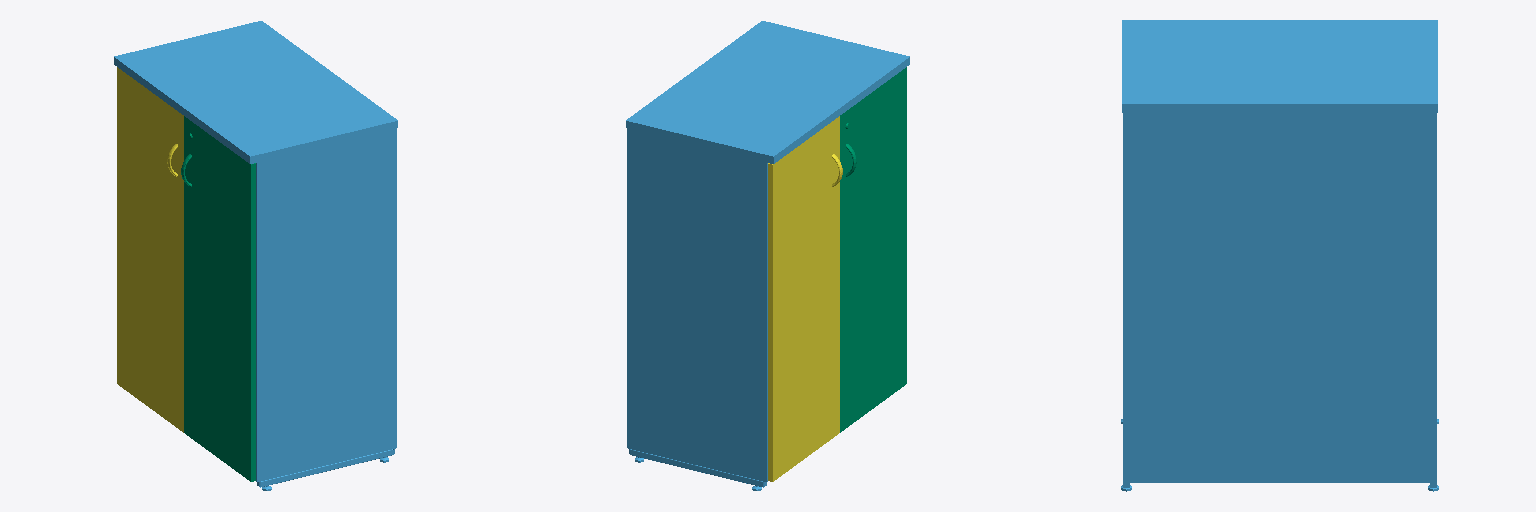
The robot description file, URDF, robot "00620":
<robot name="00620">
  <link name="base_link"/>
  <link name="link_0">
    <visual>
      <origin xyz="-0.0 -0.0 -0.0" rpy="0 0 0"/>
      <geometry>
        <mesh filename="textured_objs/part_001.obj"/>
      </geometry>
    </visual>
    <collision>
      <origin xyz="-0.0 -0.0 -0.0" rpy="0 0 0"/>
      <geometry>
        <mesh filename="textured_objs/part_001.obj"/>
      </geometry>
    </collision>
    <visual>
      <origin xyz="-0.0 -0.0 -0.0" rpy="0 0 0"/>
      <geometry>
        <mesh filename="textured_objs/part_002.obj"/>
      </geometry>
    </visual>
    <collision>
      <origin xyz="-0.0 -0.0 -0.0" rpy="0 0 0"/>
      <geometry>
        <mesh filename="textured_objs/part_002.obj"/>
      </geometry>
    </collision>
    <visual>
      <origin xyz="-0.0 -0.0 -0.0" rpy="0 0 0"/>
      <geometry>
        <mesh filename="textured_objs/part_003.obj"/>
      </geometry>
    </visual>
    <collision>
      <origin xyz="-0.0 -0.0 -0.0" rpy="0 0 0"/>
      <geometry>
        <mesh filename="textured_objs/part_003.obj"/>
      </geometry>
    </collision>
    <visual>
      <origin xyz="-0.0 -0.0 -0.0" rpy="0 0 0"/>
      <geometry>
        <mesh filename="textured_objs/part_004.obj"/>
      </geometry>
    </visual>
    <collision>
      <origin xyz="-0.0 -0.0 -0.0" rpy="0 0 0"/>
      <geometry>
        <mesh filename="textured_objs/part_004.obj"/>
      </geometry>
    </collision>
    <visual>
      <origin xyz="-0.0 -0.0 -0.0" rpy="0 0 0"/>
      <geometry>
        <mesh filename="textured_objs/part_005.obj"/>
      </geometry>
    </visual>
    <collision>
      <origin xyz="-0.0 -0.0 -0.0" rpy="0 0 0"/>
      <geometry>
        <mesh filename="textured_objs/part_005.obj"/>
      </geometry>
    </collision>
    <visual>
      <origin xyz="-0.0 -0.0 -0.0" rpy="0 0 0"/>
      <geometry>
        <mesh filename="textured_objs/part_006.obj"/>
      </geometry>
    </visual>
    <collision>
      <origin xyz="-0.0 -0.0 -0.0" rpy="0 0 0"/>
      <geometry>
        <mesh filename="textured_objs/part_006.obj"/>
      </geometry>
    </collision>
    <visual>
      <origin xyz="-0.0 -0.0 -0.0" rpy="0 0 0"/>
      <geometry>
        <mesh filename="textured_objs/part_007.obj"/>
      </geometry>
    </visual>
    <collision>
      <origin xyz="-0.0 -0.0 -0.0" rpy="0 0 0"/>
      <geometry>
        <mesh filename="textured_objs/part_007.obj"/>
      </geometry>
    </collision>
    <visual>
      <origin xyz="-0.0 -0.0 -0.0" rpy="0 0 0"/>
      <geometry>
        <mesh filename="textured_objs/part_008.obj"/>
      </geometry>
    </visual>
    <collision>
      <origin xyz="-0.0 -0.0 -0.0" rpy="0 0 0"/>
      <geometry>
        <mesh filename="textured_objs/part_008.obj"/>
      </geometry>
    </collision>
    <visual>
      <origin xyz="-0.0 -0.0 -0.0" rpy="0 0 0"/>
      <geometry>
        <mesh filename="textured_objs/part_009.obj"/>
      </geometry>
    </visual>
    <collision>
      <origin xyz="-0.0 -0.0 -0.0" rpy="0 0 0"/>
      <geometry>
        <mesh filename="textured_objs/part_009.obj"/>
      </geometry>
    </collision>
    <visual>
      <origin xyz="-0.0 -0.0 -0.0" rpy="0 0 0"/>
      <geometry>
        <mesh filename="textured_objs/part_010.obj"/>
      </geometry>
    </visual>
    <collision>
      <origin xyz="-0.0 -0.0 -0.0" rpy="0 0 0"/>
      <geometry>
        <mesh filename="textured_objs/part_010.obj"/>
      </geometry>
    </collision>
    <visual>
      <origin xyz="-0.0 -0.0 -0.0" rpy="0 0 0"/>
      <geometry>
        <mesh filename="textured_objs/part_011.obj"/>
      </geometry>
    </visual>
    <collision>
      <origin xyz="-0.0 -0.0 -0.0" rpy="0 0 0"/>
      <geometry>
        <mesh filename="textured_objs/part_011.obj"/>
      </geometry>
    </collision>
    <visual>
      <origin xyz="-0.0 -0.0 -0.0" rpy="0 0 0"/>
      <geometry>
        <mesh filename="textured_objs/part_012.obj"/>
      </geometry>
    </visual>
    <collision>
      <origin xyz="-0.0 -0.0 -0.0" rpy="0 0 0"/>
      <geometry>
        <mesh filename="textured_objs/part_012.obj"/>
      </geometry>
    </collision>
    <visual>
      <origin xyz="-0.0 -0.0 -0.0" rpy="0 0 0"/>
      <geometry>
        <mesh filename="textured_objs/part_013.obj"/>
      </geometry>
    </visual>
    <collision>
      <origin xyz="-0.0 -0.0 -0.0" rpy="0 0 0"/>
      <geometry>
        <mesh filename="textured_objs/part_013.obj"/>
      </geometry>
    </collision>
    <visual>
      <origin xyz="-0.0 -0.0 -0.0" rpy="0 0 0"/>
      <geometry>
        <mesh filename="textured_objs/part_014.obj"/>
      </geometry>
    </visual>
    <collision>
      <origin xyz="-0.0 -0.0 -0.0" rpy="0 0 0"/>
      <geometry>
        <mesh filename="textured_objs/part_014.obj"/>
      </geometry>
    </collision>
    <visual>
      <origin xyz="-0.0 -0.0 -0.0" rpy="0 0 0"/>
      <geometry>
        <mesh filename="textured_objs/part_015.obj"/>
      </geometry>
    </visual>
    <collision>
      <origin xyz="-0.0 -0.0 -0.0" rpy="0 0 0"/>
      <geometry>
        <mesh filename="textured_objs/part_015.obj"/>
      </geometry>
    </collision>
    <visual>
      <origin xyz="-0.0 -0.0 -0.0" rpy="0 0 0"/>
      <geometry>
        <mesh filename="textured_objs/part_016.obj"/>
      </geometry>
    </visual>
    <collision>
      <origin xyz="-0.0 -0.0 -0.0" rpy="0 0 0"/>
      <geometry>
        <mesh filename="textured_objs/part_016.obj"/>
      </geometry>
    </collision>
    <visual>
      <origin xyz="-0.0 -0.0 -0.0" rpy="0 0 0"/>
      <geometry>
        <mesh filename="textured_objs/part_017.obj"/>
      </geometry>
    </visual>
    <collision>
      <origin xyz="-0.0 -0.0 -0.0" rpy="0 0 0"/>
      <geometry>
        <mesh filename="textured_objs/part_017.obj"/>
      </geometry>
    </collision>
    <visual>
      <origin xyz="-0.0 -0.0 -0.0" rpy="0 0 0"/>
      <geometry>
        <mesh filename="textured_objs/part_019.obj"/>
      </geometry>
    </visual>
    <collision>
      <origin xyz="-0.0 -0.0 -0.0" rpy="0 0 0"/>
      <geometry>
        <mesh filename="textured_objs/part_019.obj"/>
      </geometry>
    </collision>
    <visual>
      <origin xyz="-0.0 -0.0 -0.0" rpy="0 0 0"/>
      <geometry>
        <mesh filename="textured_objs/part_020.obj"/>
      </geometry>
    </visual>
    <collision>
      <origin xyz="-0.0 -0.0 -0.0" rpy="0 0 0"/>
      <geometry>
        <mesh filename="textured_objs/part_020.obj"/>
      </geometry>
    </collision>
    <visual>
      <origin xyz="-0.0 -0.0 -0.0" rpy="0 0 0"/>
      <geometry>
        <mesh filename="textured_objs/part_021.obj"/>
      </geometry>
    </visual>
    <collision>
      <origin xyz="-0.0 -0.0 -0.0" rpy="0 0 0"/>
      <geometry>
        <mesh filename="textured_objs/part_021.obj"/>
      </geometry>
    </collision>
    <visual>
      <origin xyz="-0.0 -0.0 -0.0" rpy="0 0 0"/>
      <geometry>
        <mesh filename="textured_objs/part_022.obj"/>
      </geometry>
    </visual>
    <collision>
      <origin xyz="-0.0 -0.0 -0.0" rpy="0 0 0"/>
      <geometry>
        <mesh filename="textured_objs/part_022.obj"/>
      </geometry>
    </collision>
    <visual>
      <origin xyz="-0.0 -0.0 -0.0" rpy="0 0 0"/>
      <geometry>
        <mesh filename="textured_objs/part_023.obj"/>
      </geometry>
    </visual>
    <collision>
      <origin xyz="-0.0 -0.0 -0.0" rpy="0 0 0"/>
      <geometry>
        <mesh filename="textured_objs/part_023.obj"/>
      </geometry>
    </collision>
    <visual>
      <origin xyz="-0.0 -0.0 -0.0" rpy="0 0 0"/>
      <geometry>
        <mesh filename="textured_objs/part_027.obj"/>
      </geometry>
    </visual>
    <collision>
      <origin xyz="-0.0 -0.0 -0.0" rpy="0 0 0"/>
      <geometry>
        <mesh filename="textured_objs/part_027.obj"/>
      </geometry>
    </collision>
    <visual>
      <origin xyz="-0.0 -0.0 -0.0" rpy="0 0 0"/>
      <geometry>
        <mesh filename="textured_objs/part_028.obj"/>
      </geometry>
    </visual>
    <collision>
      <origin xyz="-0.0 -0.0 -0.0" rpy="0 0 0"/>
      <geometry>
        <mesh filename="textured_objs/part_028.obj"/>
      </geometry>
    </collision>
    <visual>
      <origin xyz="-0.0 -0.0 -0.0" rpy="0 0 0"/>
      <geometry>
        <mesh filename="textured_objs/part_029.obj"/>
      </geometry>
    </visual>
    <collision>
      <origin xyz="-0.0 -0.0 -0.0" rpy="0 0 0"/>
      <geometry>
        <mesh filename="textured_objs/part_029.obj"/>
      </geometry>
    </collision>
    <visual>
      <origin xyz="-0.0 -0.0 -0.0" rpy="0 0 0"/>
      <geometry>
        <mesh filename="textured_objs/part_030.obj"/>
      </geometry>
    </visual>
    <collision>
      <origin xyz="-0.0 -0.0 -0.0" rpy="0 0 0"/>
      <geometry>
        <mesh filename="textured_objs/part_030.obj"/>
      </geometry>
    </collision>
    <visual>
      <origin xyz="-0.0 -0.0 -0.0" rpy="0 0 0"/>
      <geometry>
        <mesh filename="textured_objs/part_031.obj"/>
      </geometry>
    </visual>
    <collision>
      <origin xyz="-0.0 -0.0 -0.0" rpy="0 0 0"/>
      <geometry>
        <mesh filename="textured_objs/part_031.obj"/>
      </geometry>
    </collision>
    <visual>
      <origin xyz="-0.0 -0.0 -0.0" rpy="0 0 0"/>
      <geometry>
        <mesh filename="textured_objs/part_032.obj"/>
      </geometry>
    </visual>
    <collision>
      <origin xyz="-0.0 -0.0 -0.0" rpy="0 0 0"/>
      <geometry>
        <mesh filename="textured_objs/part_032.obj"/>
      </geometry>
    </collision>
    <visual>
      <origin xyz="-0.0 -0.0 -0.0" rpy="0 0 0"/>
      <geometry>
        <mesh filename="textured_objs/part_033.obj"/>
      </geometry>
    </visual>
    <collision>
      <origin xyz="-0.0 -0.0 -0.0" rpy="0 0 0"/>
      <geometry>
        <mesh filename="textured_objs/part_033.obj"/>
      </geometry>
    </collision>
    <visual>
      <origin xyz="-0.0 -0.0 -0.0" rpy="0 0 0"/>
      <geometry>
        <mesh filename="textured_objs/part_034.obj"/>
      </geometry>
    </visual>
    <collision>
      <origin xyz="-0.0 -0.0 -0.0" rpy="0 0 0"/>
      <geometry>
        <mesh filename="textured_objs/part_034.obj"/>
      </geometry>
    </collision>
    <visual>
      <origin xyz="-0.0 -0.0 -0.0" rpy="0 0 0"/>
      <geometry>
        <mesh filename="textured_objs/part_035.obj"/>
      </geometry>
    </visual>
    <collision>
      <origin xyz="-0.0 -0.0 -0.0" rpy="0 0 0"/>
      <geometry>
        <mesh filename="textured_objs/part_035.obj"/>
      </geometry>
    </collision>
  </link>
  <joint name="joint_0" type="fixed">
    <parent link="base_link"/>
    <child link="link_0"/>
    <origin xyz="0.0 0.0 0.0" rpy="1.570796326794897 0 -1.570796326794897"/>
    <axis xyz="0.0 1.0 0.0"/>
  </joint>
  <link name="link_1">
    <visual>
      <origin xyz="-0.7173224687576294 0.003916844725608826 -0.39077889919281006" rpy="0 0 0"/>
      <geometry>
        <mesh filename="textured_objs/part_018.obj"/>
      </geometry>
    </visual>
    <collision>
      <origin xyz="-0.7173224687576294 0.003916844725608826 -0.39077889919281006" rpy="0 0 0"/>
      <geometry>
        <mesh filename="textured_objs/part_018.obj"/>
      </geometry>
    </collision>
    <visual>
      <origin xyz="-0.7173224687576294 0.003916844725608826 -0.39077889919281006" rpy="0 0 0"/>
      <geometry>
        <mesh filename="textured_objs/part_025.obj"/>
      </geometry>
    </visual>
    <collision>
      <origin xyz="-0.7173224687576294 0.003916844725608826 -0.39077889919281006" rpy="0 0 0"/>
      <geometry>
        <mesh filename="textured_objs/part_025.obj"/>
      </geometry>
    </collision>
    <visual>
      <origin xyz="-0.7173224687576294 0.003916844725608826 -0.39077889919281006" rpy="0 0 0"/>
      <geometry>
        <mesh filename="textured_objs/part_026.obj"/>
      </geometry>
    </visual>
    <collision>
      <origin xyz="-0.7173224687576294 0.003916844725608826 -0.39077889919281006" rpy="0 0 0"/>
      <geometry>
        <mesh filename="textured_objs/part_026.obj"/>
      </geometry>
    </collision>
  </link>
  <joint name="joint_1" type="revolute">
    <parent link="link_0"/>
    <child link="link_1"/>
    <origin xyz="0.7173224687576294 -0.003916844725608826 0.39077889919281006" rpy="0 0 0"/>
    <axis xyz="0.0 1.0 0.0"/>
    <limit lower="0.0" upper="1.5707963267948966" effort="10.0" velocity="1.0"/>
  </joint>
  <link name="link_2">
    <visual>
      <origin xyz="0.7175222039222717 0.009064272046089172 -0.3907898962497711" rpy="0 0 0"/>
      <geometry>
        <mesh filename="textured_objs/part_000.obj"/>
      </geometry>
    </visual>
    <collision>
      <origin xyz="0.7175222039222717 0.009064272046089172 -0.3907898962497711" rpy="0 0 0"/>
      <geometry>
        <mesh filename="textured_objs/part_000.obj"/>
      </geometry>
    </collision>
    <visual>
      <origin xyz="0.7175222039222717 0.009064272046089172 -0.3907898962497711" rpy="0 0 0"/>
      <geometry>
        <mesh filename="textured_objs/part_024.obj"/>
      </geometry>
    </visual>
    <collision>
      <origin xyz="0.7175222039222717 0.009064272046089172 -0.3907898962497711" rpy="0 0 0"/>
      <geometry>
        <mesh filename="textured_objs/part_024.obj"/>
      </geometry>
    </collision>
  </link>
  <joint name="joint_2" type="revolute">
    <parent link="link_0"/>
    <child link="link_2"/>
    <origin xyz="-0.7175222039222717 -0.009064272046089172 0.3907898962497711" rpy="0 0 0"/>
    <axis xyz="0.0 -1.0 0.0"/>
    <limit lower="0.0" upper="1.5707963267948966" effort="10.0" velocity="1.0"/>
  </joint>
</robot>

--- What the picture shows (computed from the rendered views, not written in the file) ---
Views: 3 orthographic renders of the robot side by side, from view 1: azimuth 30°, elevation 25°; view 2: azimuth 150°, elevation 25°; view 3: azimuth 270°, elevation 25°.
Model 00620 with 4 links and 3 joints (2 revolute, 1 fixed), rooted at base_link, posed all joints at 0.
Visible links, largest first — view 1: link_0, link_1, link_2; view 2: link_0, link_2, link_1; view 3: link_0.
Boxes of the visible links, x1,y1,x2,y2 form: link_0: (114, 21, 397, 490); link_1: (181, 116, 255, 481); link_2: (117, 67, 183, 432); link_0: (626, 21, 909, 490); link_2: (768, 116, 842, 481); link_1: (840, 67, 906, 432); link_0: (1121, 20, 1438, 491).
Size in the robot's own frame: 0.9587 by 1.47 by 2 metres.
36 mesh visuals loaded from 36 distinct referenced files (36 OBJ).
